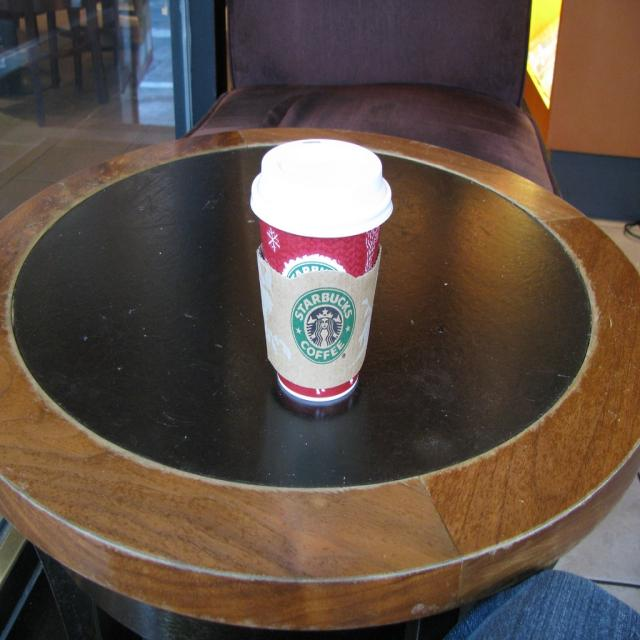starbucks: (291, 289, 357, 366)
